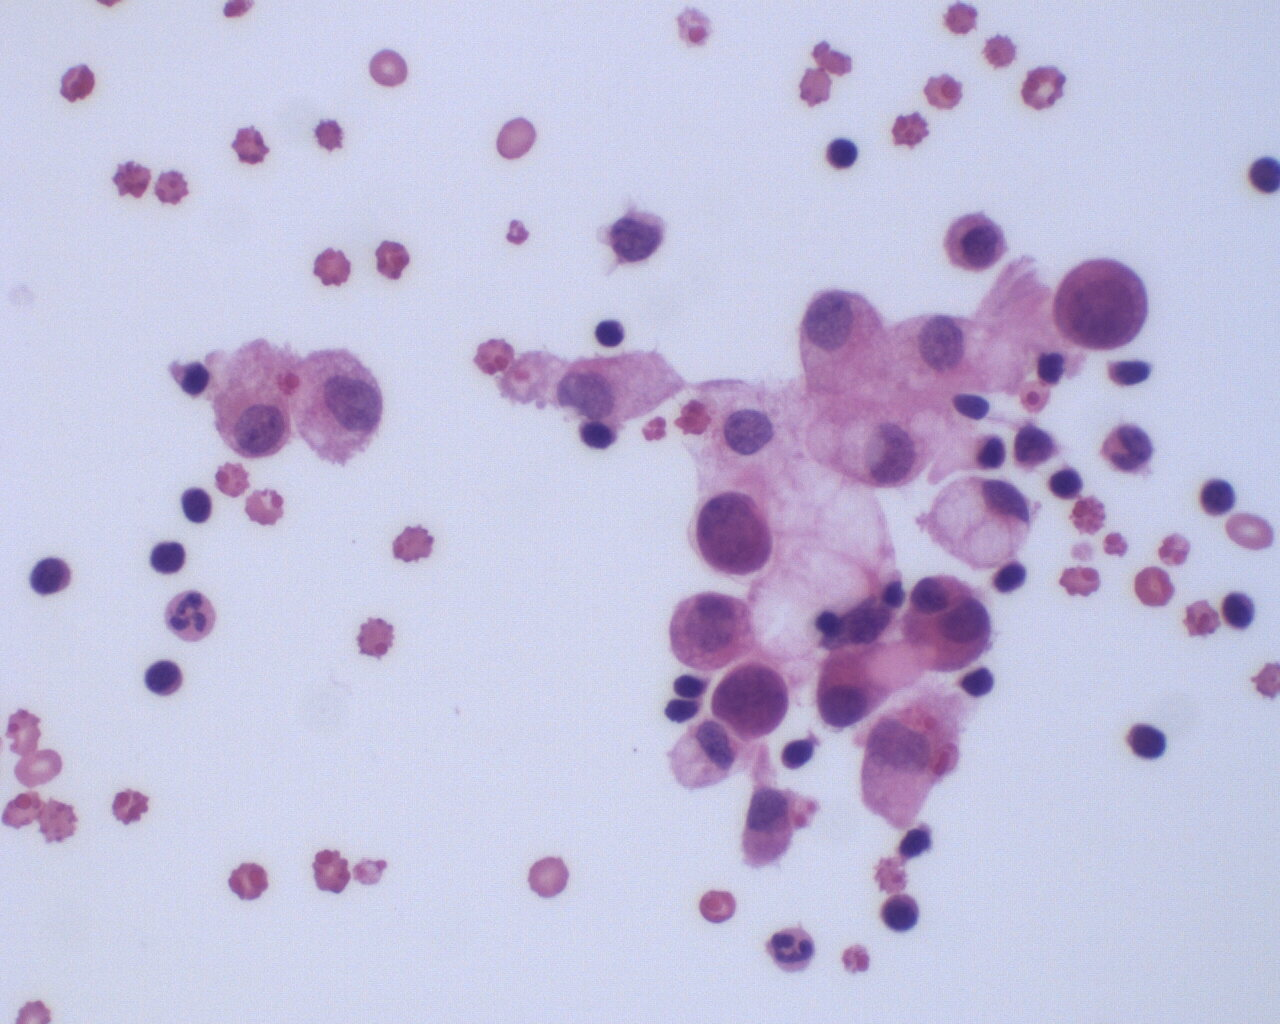ab: (1055, 253, 1149, 359), (688, 487, 776, 578), (711, 661, 792, 742)
histo: (924, 476, 1038, 569)
lymph: (1119, 720, 1171, 765), (878, 889, 924, 935), (174, 481, 214, 533), (146, 537, 191, 583), (28, 555, 75, 599), (1197, 473, 1239, 521), (1219, 585, 1260, 631), (144, 657, 185, 701), (817, 131, 858, 171), (590, 311, 635, 348)
neutro: (161, 582, 216, 649), (766, 920, 819, 971)
